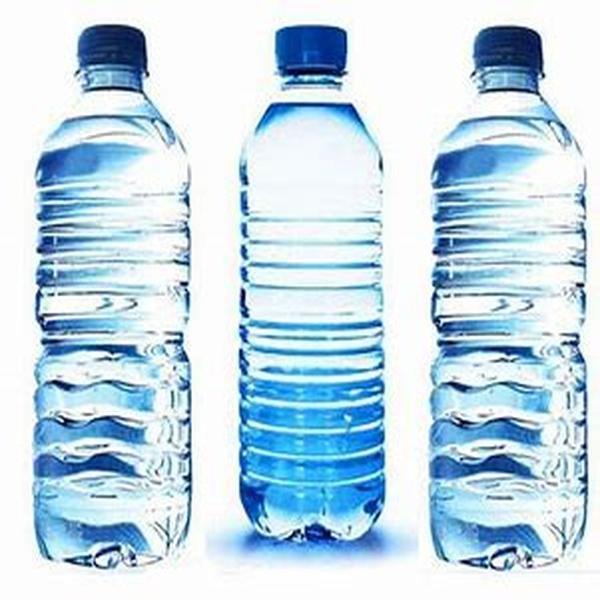tutuma: (28, 22, 197, 582), (427, 21, 596, 575), (232, 20, 388, 560)
